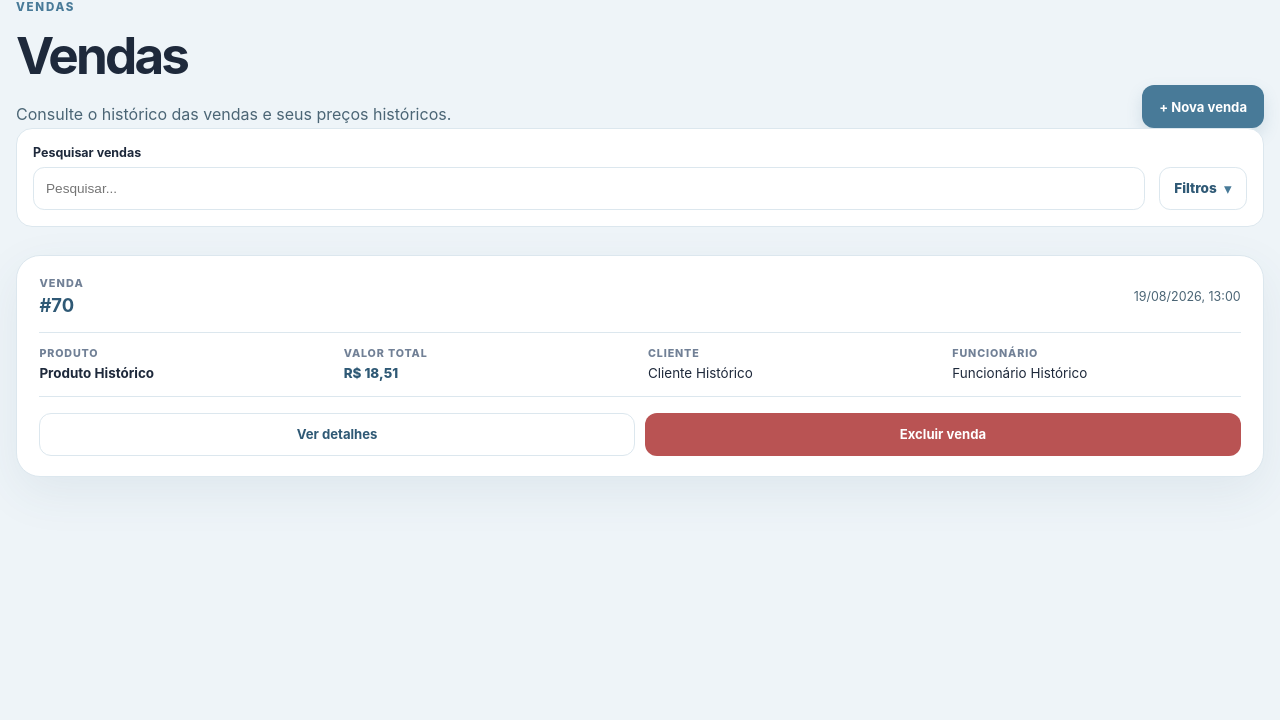
Scenario: SalesPage › renders the list and shows historical prices and totals in details
Expected: the text "#70" is shown, [39,294,74,316]
Expected: the text "Produto Histórico" is shown, [39,365,154,381]
Click the button "Ver detalhes" at (337, 434), box [39,413,635,456]
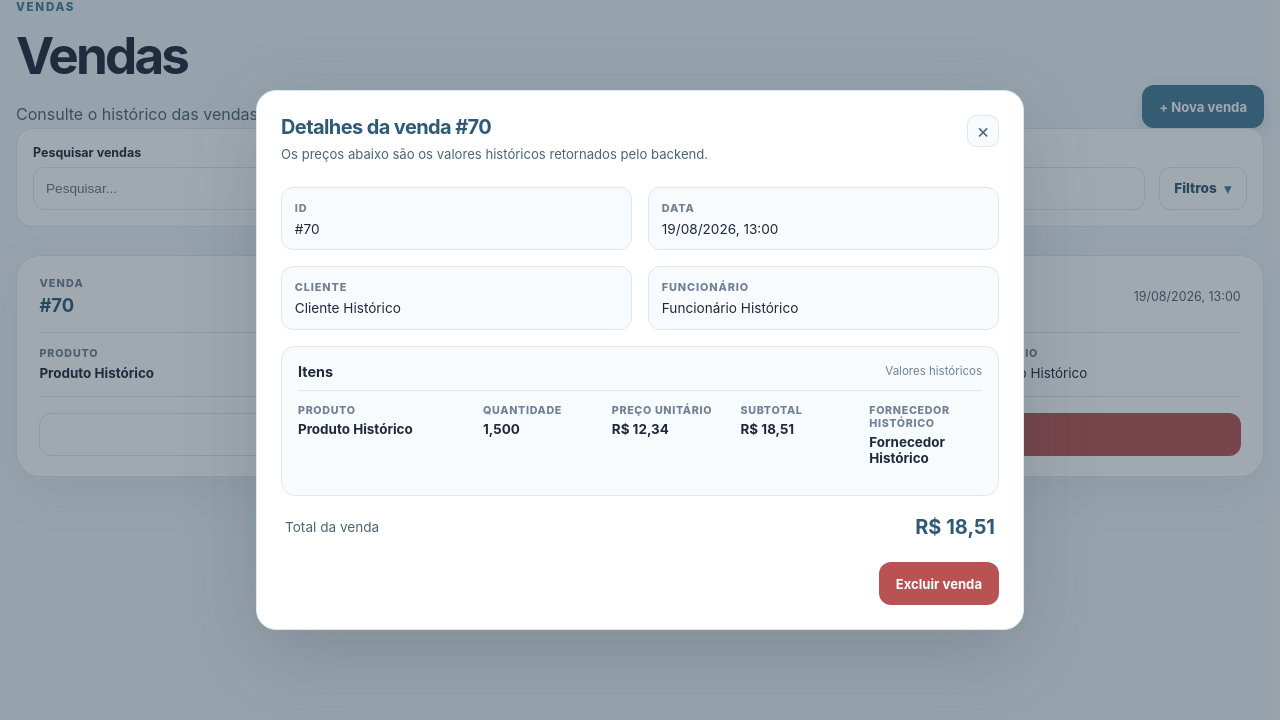
Expected: the dialog "Detalhes da venda #70" is shown, [256,90,1024,630]
Expected: the text "1,500" is shown, [483,421,520,437]
Expected: the text "Fornecedor Histórico" is shown, [869,434,945,466]
